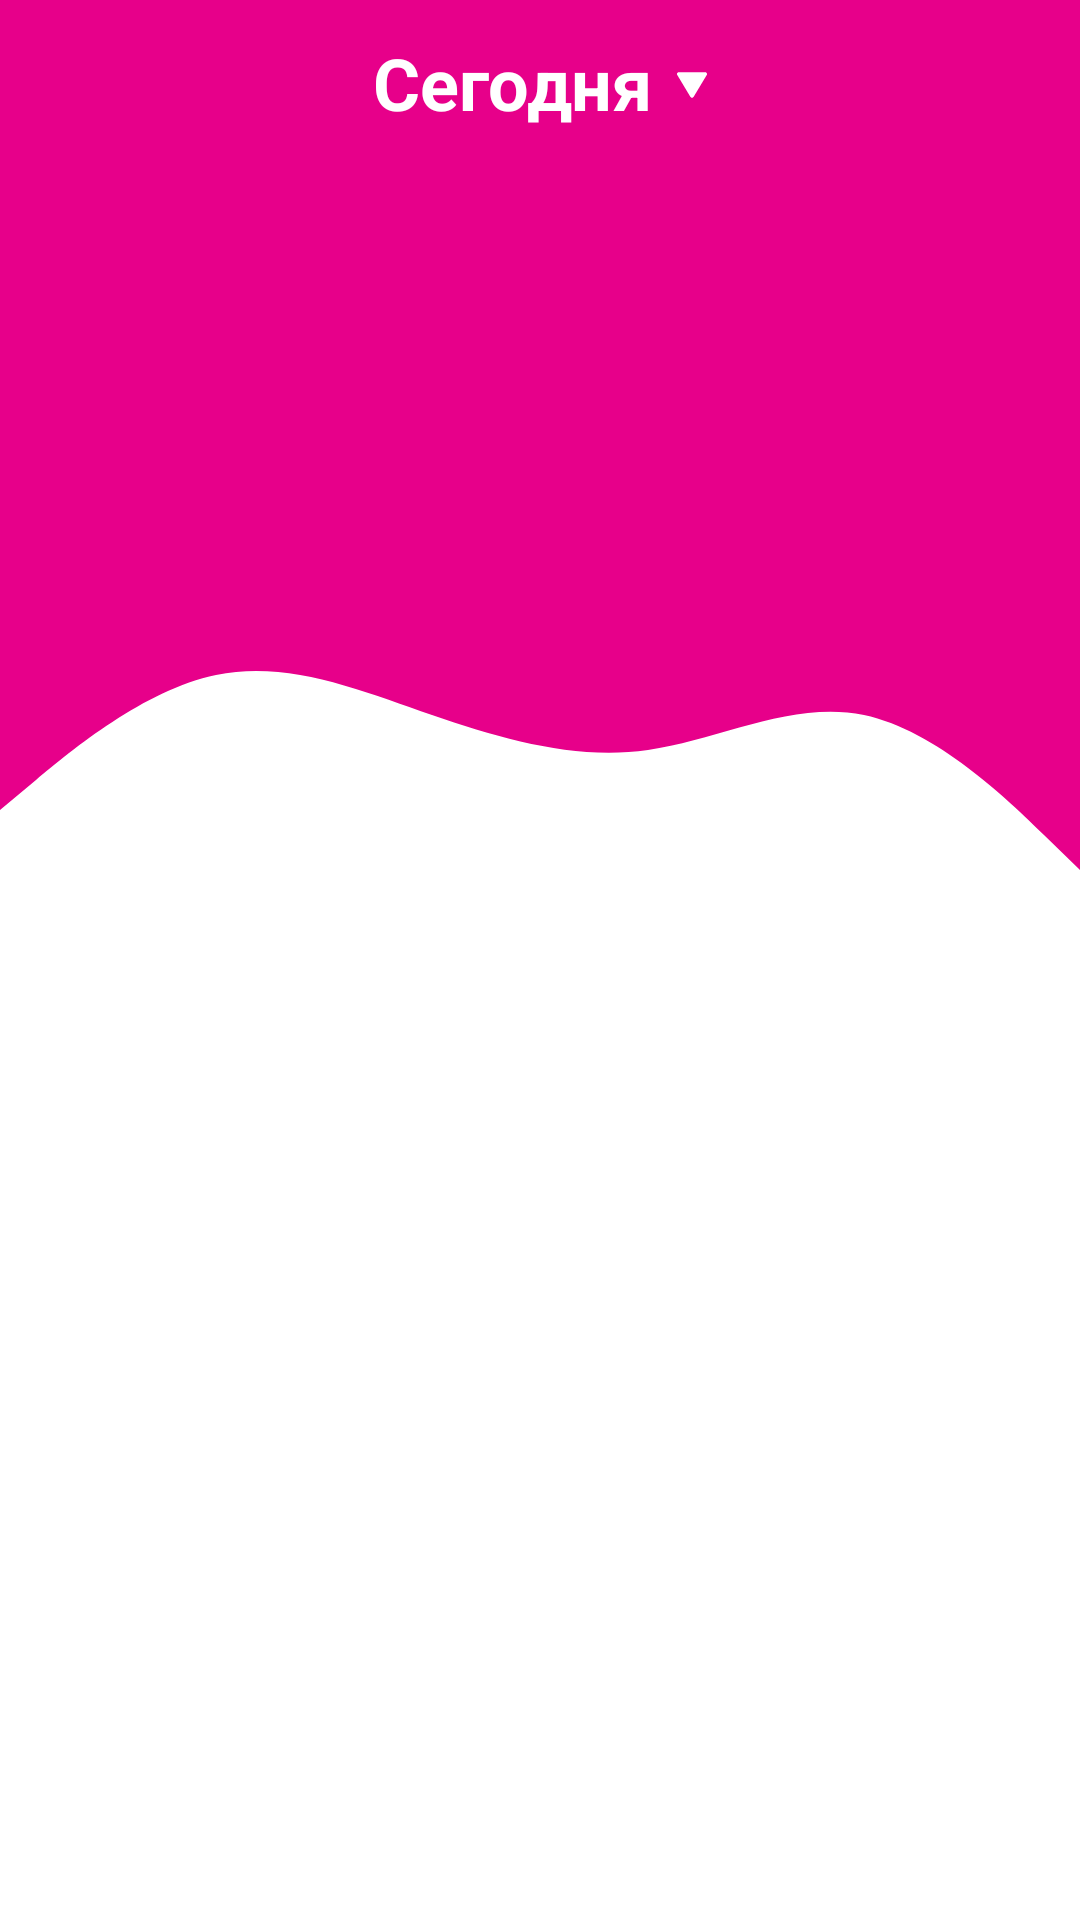

Screen size 1080 x 1920. Icon name, then its center in pixels as [x,y]:
triangle: [692,85]
